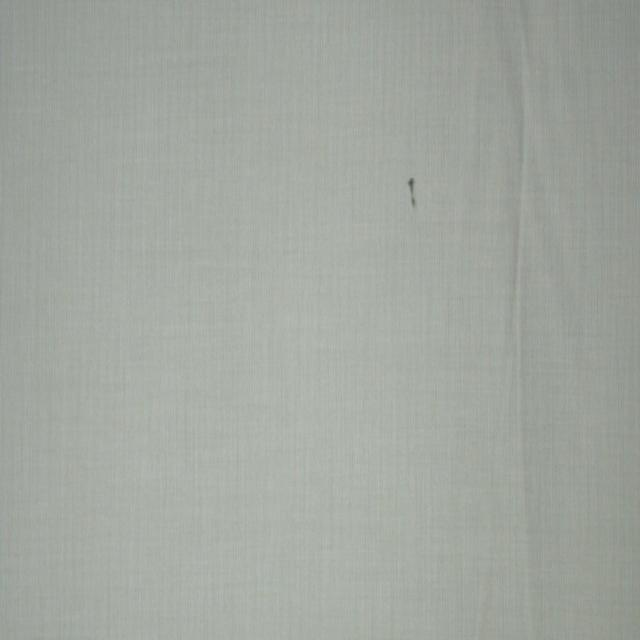dirty: (409, 176, 417, 209)
